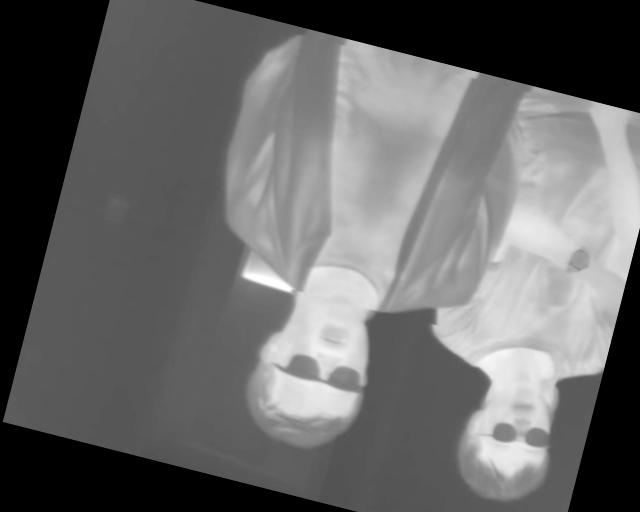face: (233, 284, 387, 462), (445, 374, 567, 512)
